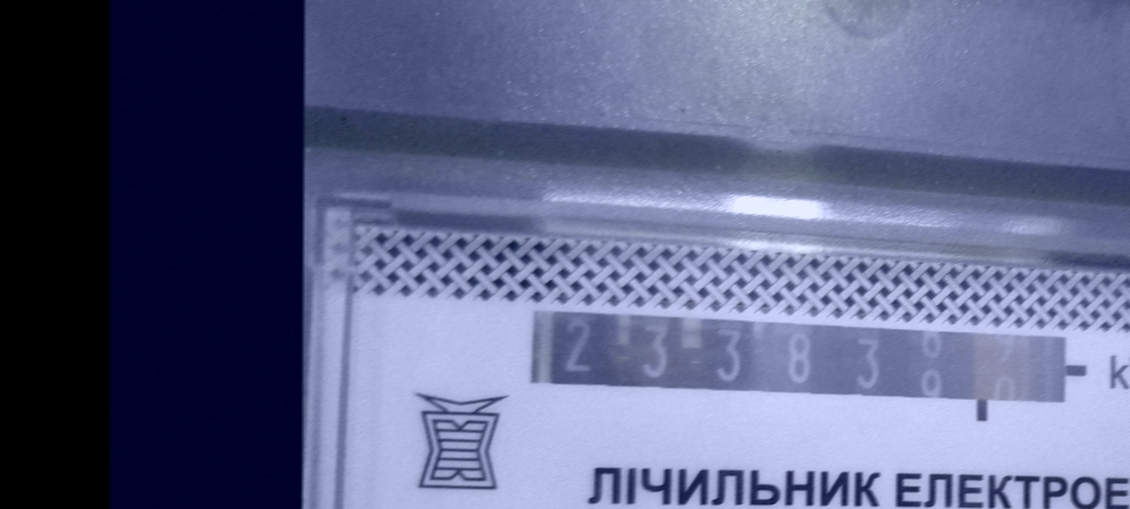0: (991, 372, 1018, 406)
2: (559, 314, 598, 375)
3: (710, 322, 746, 386), (855, 332, 883, 389), (642, 320, 669, 378)
8: (783, 327, 816, 385), (920, 326, 946, 358)
9: (990, 328, 1020, 367), (918, 364, 946, 401)
screen: (502, 287, 1096, 447)
